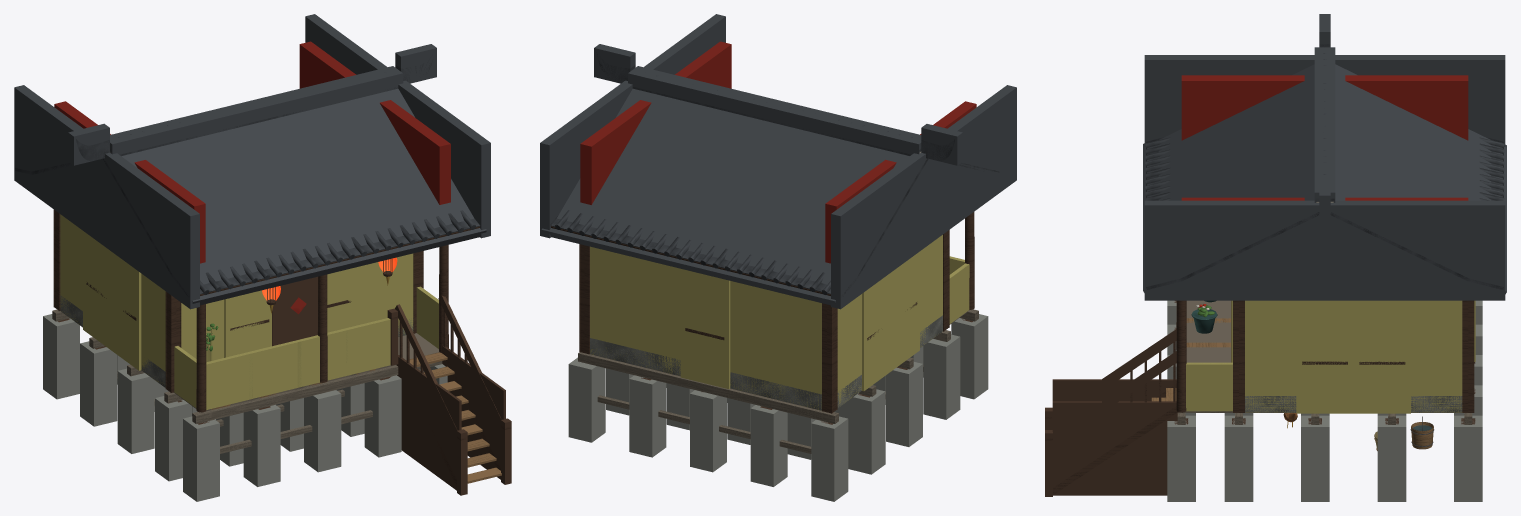
The model's file is kit_stilt_bamboo.gltf.
3 renders of one model, left to right at view 1: azimuth 30°, elevation 25°; view 2: azimuth 150°, elevation 25°; view 3: azimuth 270°, elevation 25°, orthographic. The views are drawn at different scales.
Parts seen in each view (by area): view 1: Far, Near, Detail; view 2: Far, Near; view 3: Far, Near, Detail.
Boxes of the visible parts, x1,y1,x2,y2 form: Far: [14, 14, 511, 501]; Near: [15, 55, 511, 486]; Detail: [206, 257, 397, 362]; Far: [540, 14, 1016, 501]; Near: [550, 52, 999, 453]; Far: [1045, 14, 1506, 501]; Near: [1045, 44, 1504, 494]; Detail: [1191, 300, 1434, 450].
Bounding box in the file's own units: 7.49 × 6.37 × 8.05.
28 materials, 27 textured.
